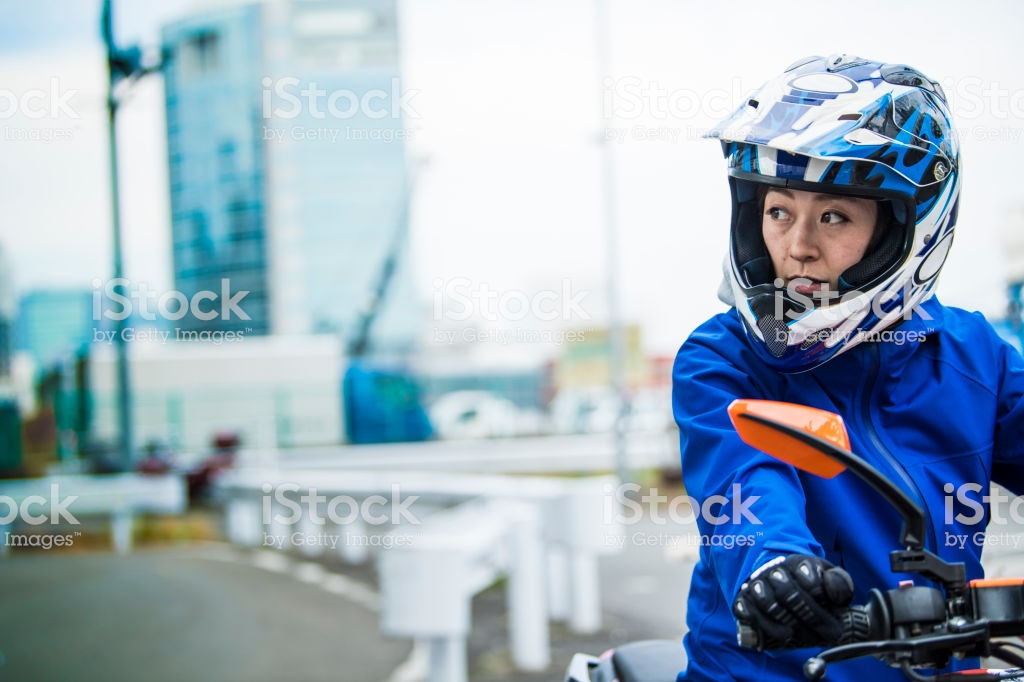helmet: (726, 64, 955, 343)
